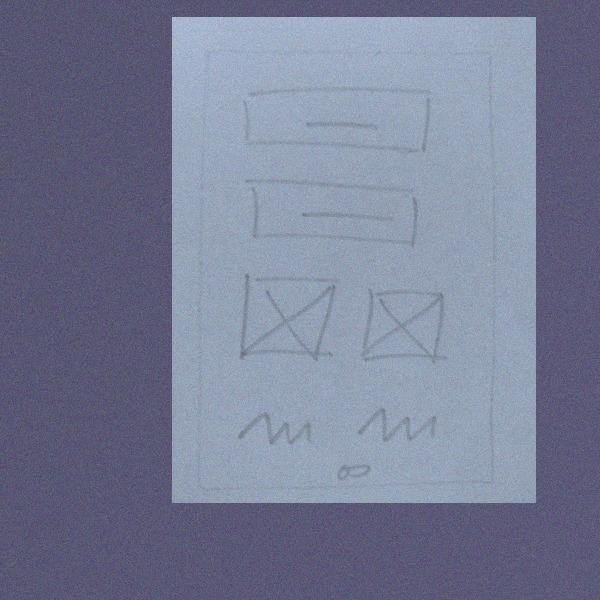button: (236, 82, 441, 159), (238, 172, 428, 251)
image: (233, 268, 341, 366), (358, 279, 457, 372)
switch: (327, 460, 381, 484)
text: (352, 397, 446, 450), (230, 406, 324, 452)
